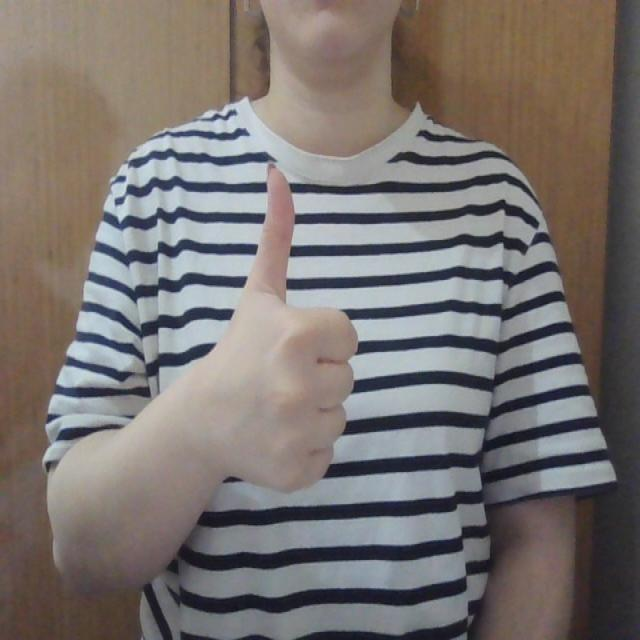Tamam: (199, 143, 360, 492)
